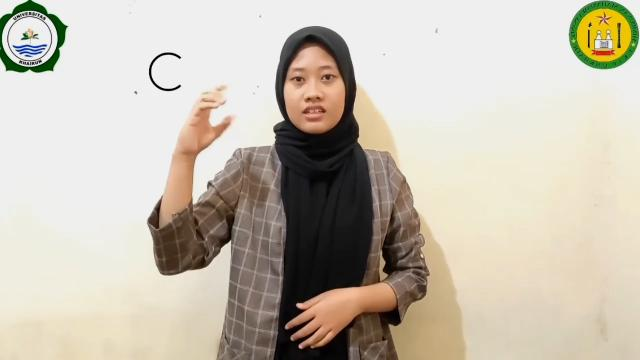C: (172, 82, 235, 154)
